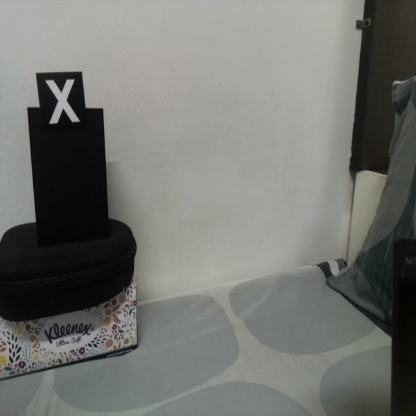id_13: (36, 71, 87, 137)
